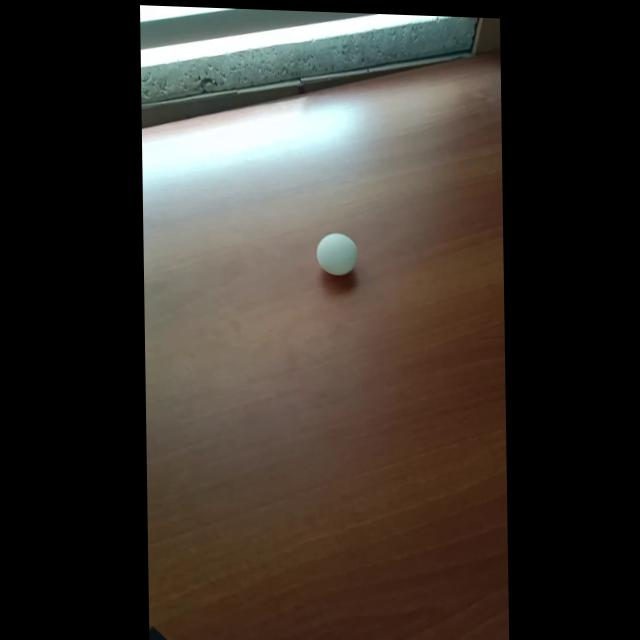white ball: (315, 232, 358, 277)
